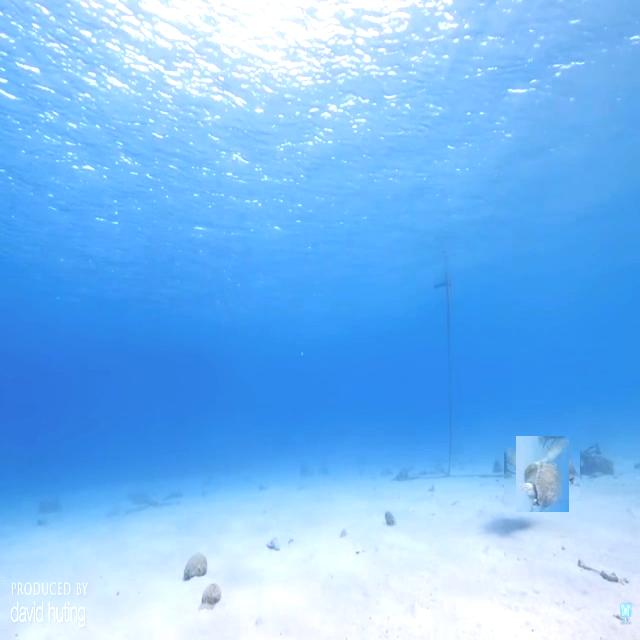Sea turtle: (509, 442, 575, 506)
